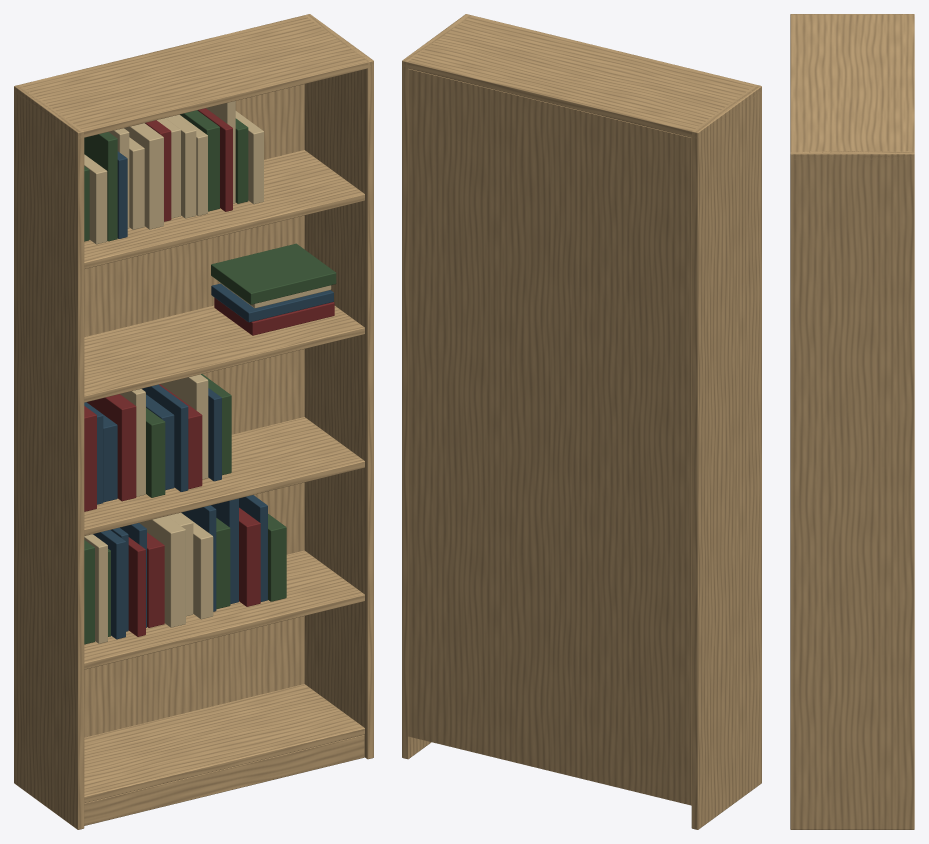
The model's file is bookshelf.glb.
The picture shows the model from 3 angles, left to right: view 1: azimuth 30°, elevation 25°; view 2: azimuth 150°, elevation 25°; view 3: azimuth 270°, elevation 25°; orthographic projection. The views are drawn at different scales.
Visible parts, largest first — view 1: Wood, BookSand, BookGreen, BookBlue, BookRed; view 2: Wood; view 3: Wood.
Part boxes in pixels (x1,y1,x2,y2): Wood: (14,14,373,829); BookSand: (84,101,331,643); BookGreen: (84,110,336,644); BookBlue: (84,151,333,639); BookRed: (84,108,334,636); Wood: (402,14,761,829); Wood: (790,14,914,829).
Size of the model in its own units: 0.8 by 1.8 by 0.3.
Materials: 5 (1 with a texture image).
